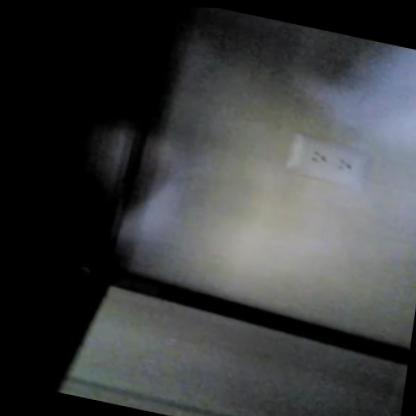OUTLET: (283, 130, 371, 186)
